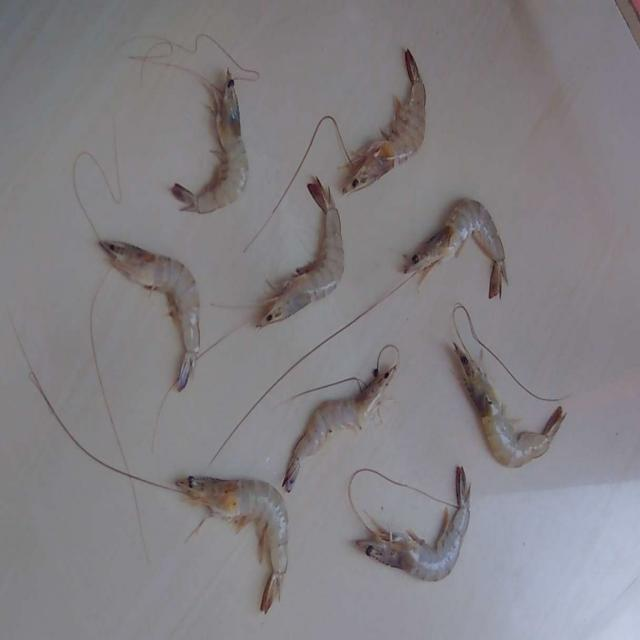shrimp: (176, 477, 288, 615), (98, 241, 199, 392), (283, 367, 397, 493), (455, 345, 566, 468), (357, 468, 471, 582), (258, 177, 344, 328), (343, 49, 426, 194), (171, 69, 248, 213), (404, 199, 508, 298)
